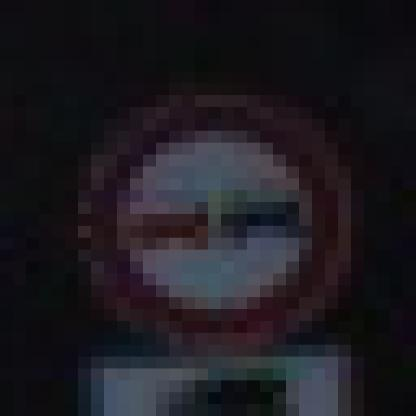No Overtaking: (66, 72, 352, 358)
